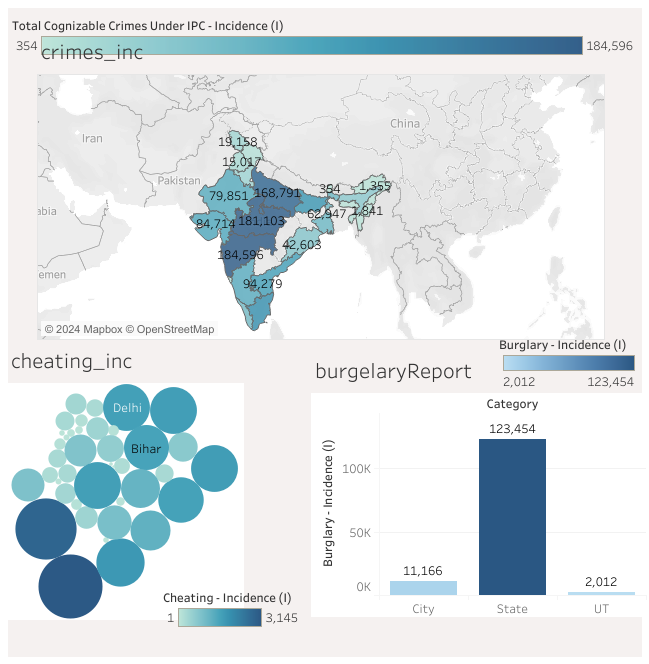

The dashboard page shown, as its layout file describes it:
{"tool":"tableau","page":{"name":"Crime_Dashboard","canvas":[650,860],"ordinal":0},"visuals":[{"type":"legend","title":"crimes_inc","param":"[federated.1wguqe41xmo97u10p3bq707twk77].[sum:Total Cognizable Crimes Under IPC ","box":[8,8.9,634,842.1]},{"type":"worksheet","title":"crimes_inc","mark":"Automatic","box":[33,35.1,576,409.3]},{"type":"legend","title":"burgelaryReport","param":"[federated.1wguqe41xmo97u10p3bq707twk77].[sum:Burglary - Incidence (I):qk]","box":[499,428.4,140,80.8]},{"type":"worksheet","title":"cheating_inc","mark":"Circle","box":[7,440.1,446,360.4]},{"type":"worksheet","title":"burgelaryReport","mark":"Automatic","rows":["Burglary - Incidence (I)"],"cols":["Category"],"box":[311,452.9,335,345.5]},{"type":"legend","title":"cheating_inc","param":"[federated.1wguqe41xmo97u10p3bq707twk77].[sum:Cheating - Incidence (I):qk]","box":[163,754.8,140,80.8]}]}

Visuals, with their boxes on the page's 650x860 design canvas (x1, y1, x2, y2). These are canvas units, not pixel positions in the 649x664 screenshot, which may show the page scaled, cropped or inside an application window:
"crimes_inc" legend: [8, 9, 642, 851]
"crimes_inc" worksheet: [33, 35, 609, 444]
"burgelaryReport" legend: [499, 428, 639, 509]
"cheating_inc" worksheet (Circle marks): [7, 440, 453, 800]
"burgelaryReport" worksheet: [311, 453, 646, 798]
"cheating_inc" legend: [163, 755, 303, 836]
